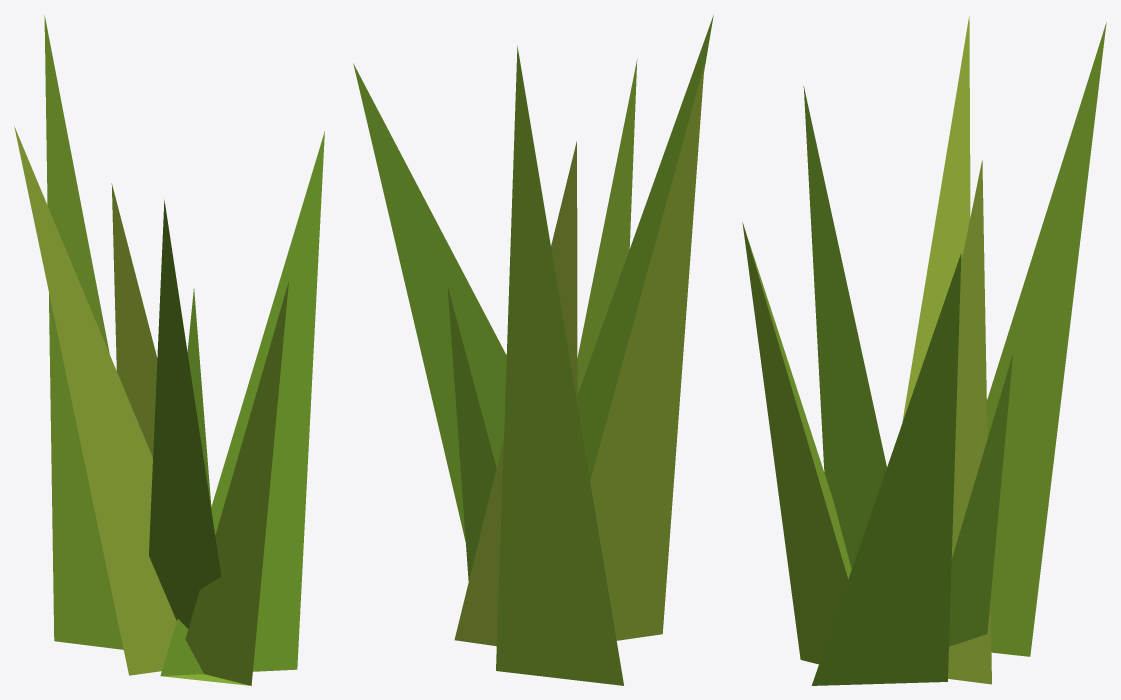
Rendered from GrassA.fbx.
3 renders of one model, left to right at view 1: azimuth 30°, elevation 25°; view 2: azimuth 150°, elevation 25°; view 3: azimuth 270°, elevation 25°, orthographic. The views are drawn at different scales.
Visible parts, largest first — view 1: Cone.001; view 2: Cone.001; view 3: Cone.001.
Boxes of the visible parts, bbox=[...] form: Cone.001: bbox=[14, 15, 324, 685]; Cone.001: bbox=[353, 15, 713, 685]; Cone.001: bbox=[742, 16, 1106, 685].
Size of the model in its own units: 38.61 by 69.68 by 37.88.
